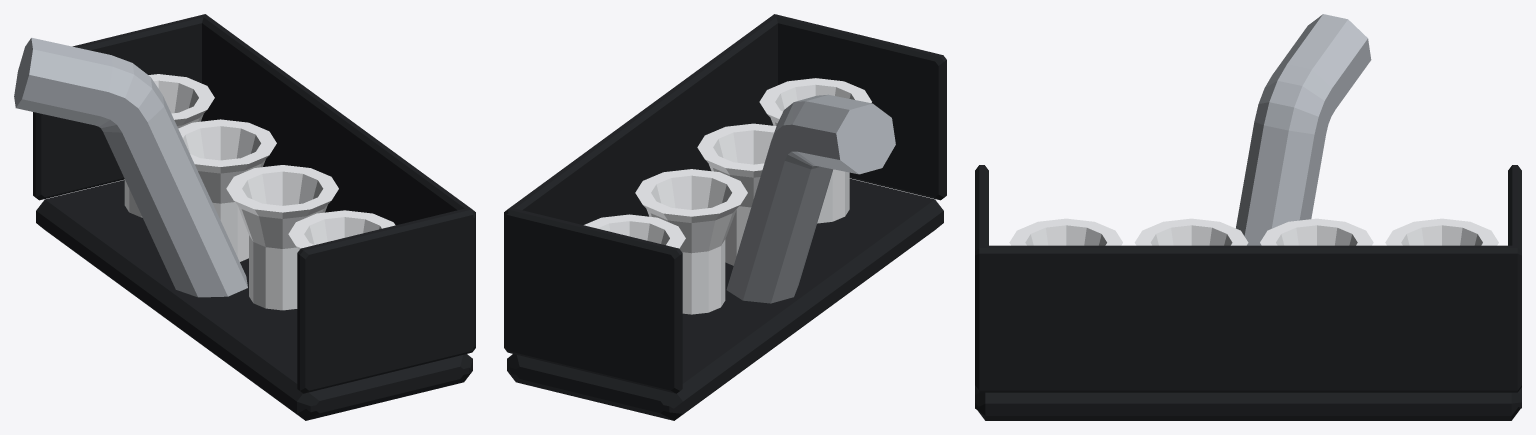
Rendered from ridgeback_4x4.glb.
The picture shows the model from 3 angles, left to right: view 1: azimuth 30°, elevation 25°; view 2: azimuth 150°, elevation 25°; view 3: azimuth 270°, elevation 25°; orthographic projection.
Visible parts, largest first — view 1: model; view 2: model; view 3: model.
Boxes of the visible parts, x1,y1,x2,y2 form: model: (14,14,475,420); model: (504,14,946,420); model: (975,14,1521,420).
Size of the model in its own units: 0.2961 by 0.2799 by 0.48.
Materials: 3 (1 with a texture image).
